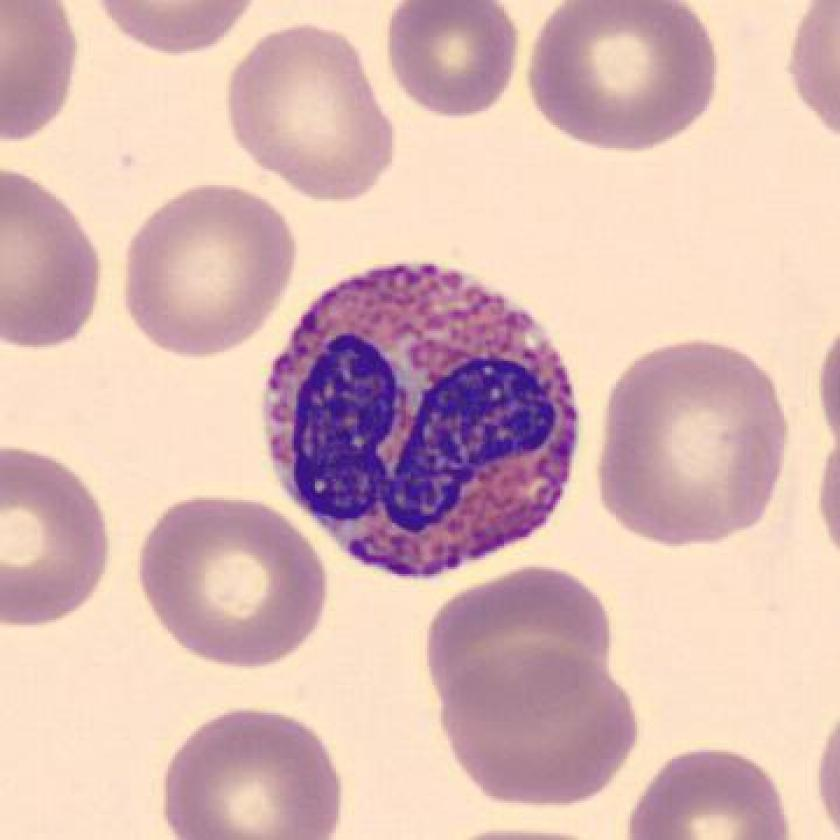eosinophil: (251, 247, 587, 594)
